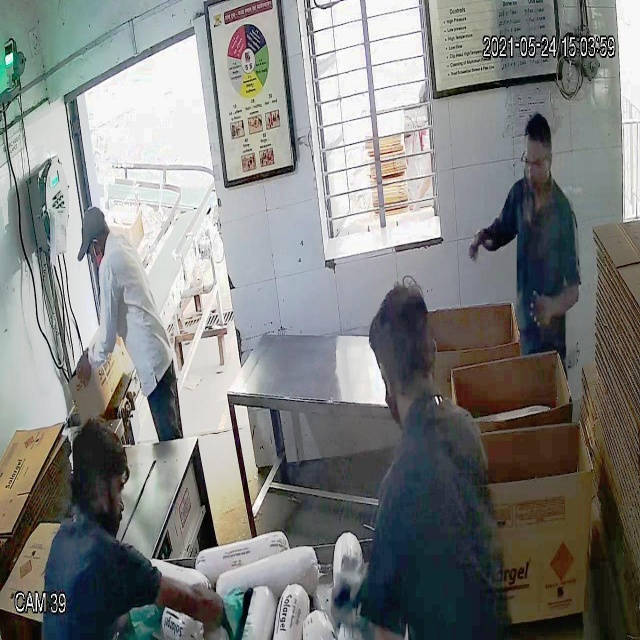Gafas: (518, 150, 552, 177)
